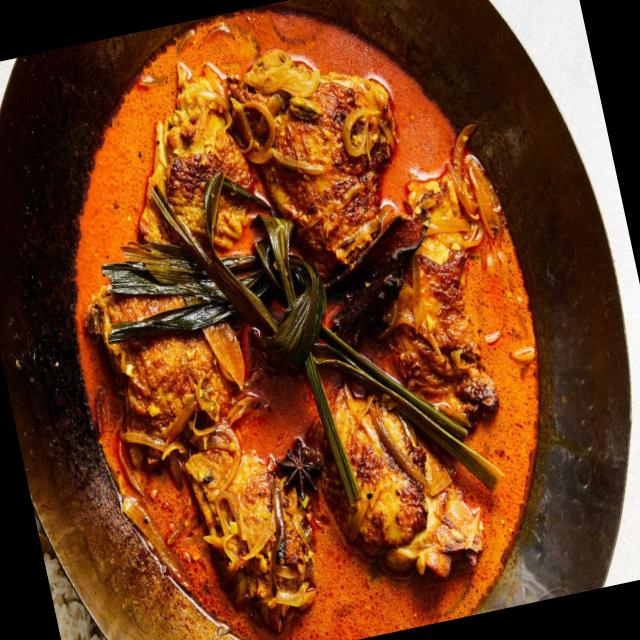chicken: (40, 18, 598, 640)
